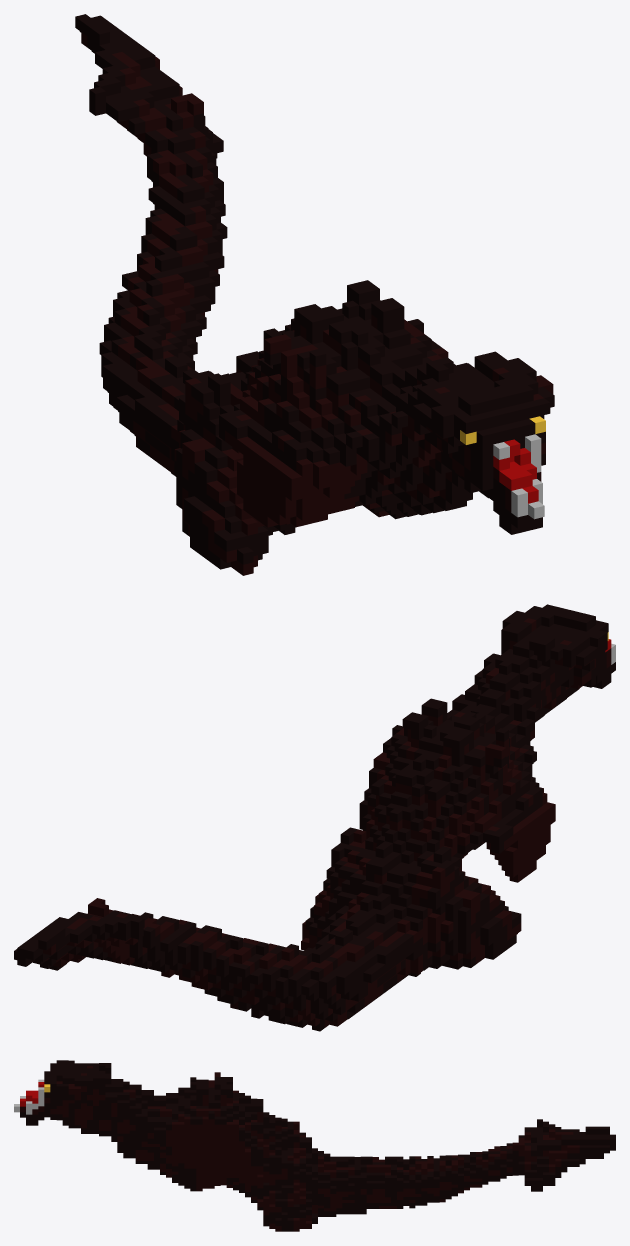
The model's file is dragon_body_no_mouth.obj.
The picture shows the model from 3 angles, top to bottom: view 1: azimuth 30°, elevation 25°; view 2: azimuth 150°, elevation 25°; view 3: azimuth 270°, elevation 25°; orthographic projection. The views are drawn at different scales.
Bounding box in the file's own units: 2.8 × 2.7 × 9.9.
